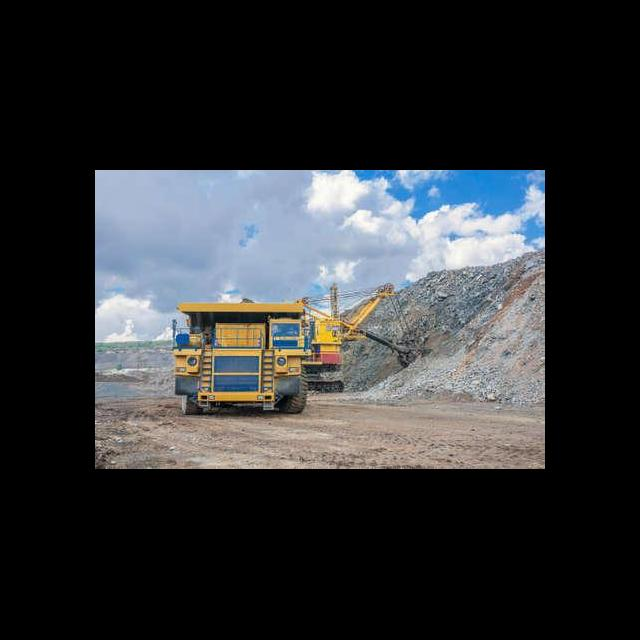Excavator: (298, 284, 431, 393)
dump truck: (174, 297, 311, 413)
